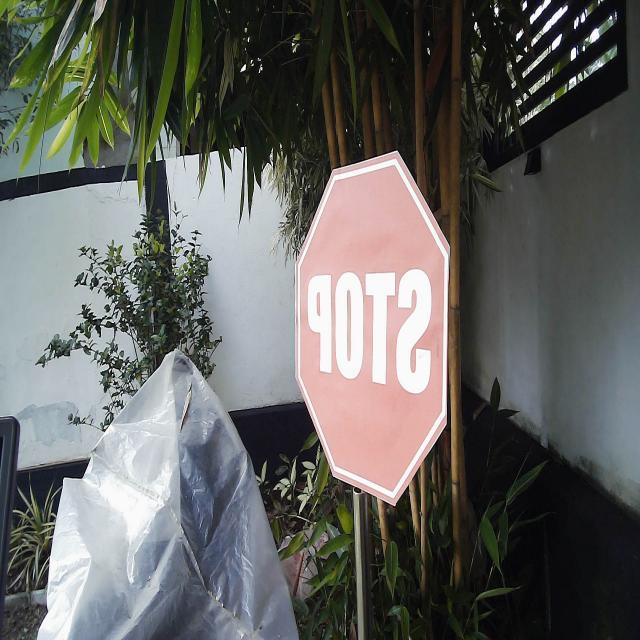stop: (294, 146, 452, 509)
